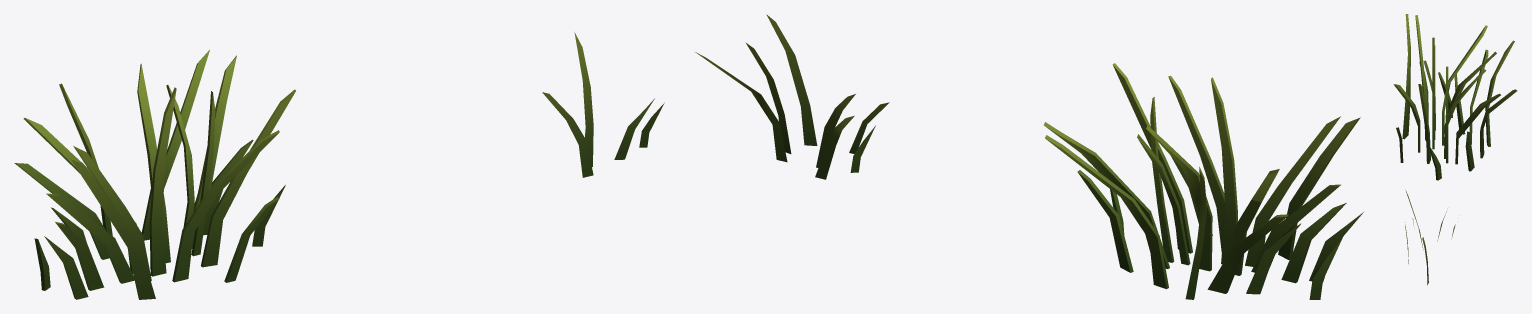
File: Grass.glb
3 views of the same model, side by side, from view 1: azimuth 30°, elevation 25°; view 2: azimuth 150°, elevation 25°; view 3: azimuth 270°, elevation 25° (orthographic). The views are drawn at different scales.
Parts seen in each view (by area): view 1: Grass_Large_Extruded, Grass_Small; view 2: Grass_Large_Extruded, Grass_Small; view 3: Grass_Large_Extruded, Grass_Small.
Boxes of the visible parts, x1,y1,x2,y2 form: Grass_Large_Extruded: (14, 50, 295, 299); Grass_Small: (542, 32, 664, 177); Grass_Large_Extruded: (1044, 63, 1363, 299); Grass_Small: (695, 14, 889, 179); Grass_Large_Extruded: (1393, 14, 1517, 180); Grass_Small: (1405, 190, 1455, 285).
Size of the model in its own units: 1.84 by 0.5112 by 0.4973.
1 material, 1 textured.
